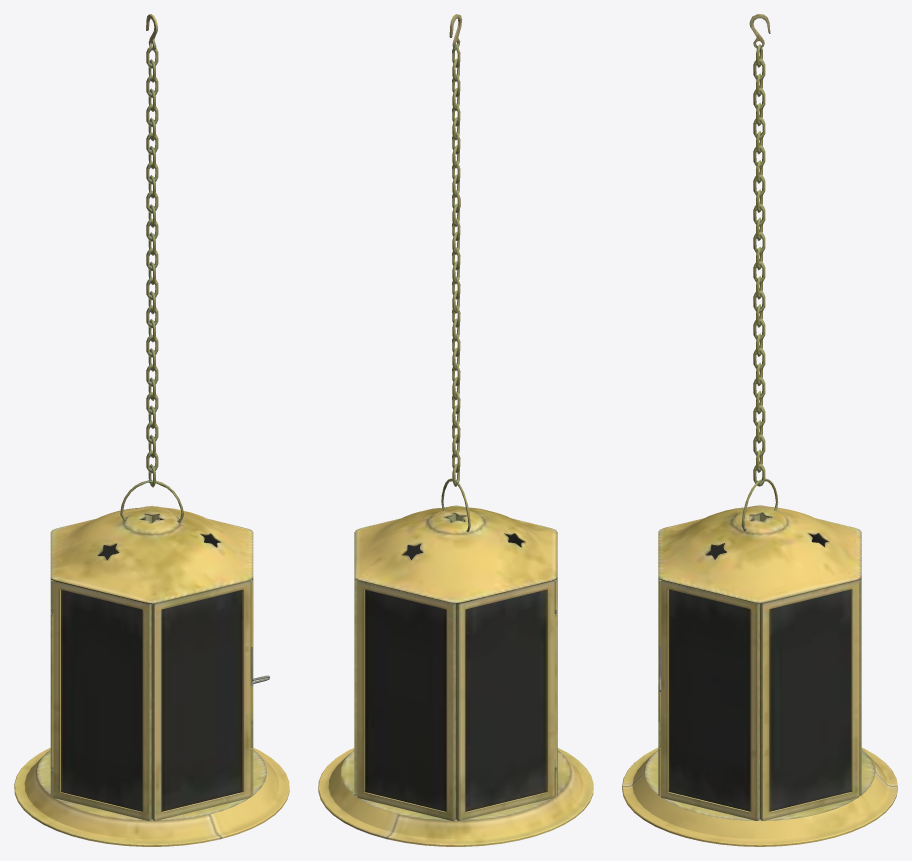
The model's file is lantern.glb.
The picture shows the model from 3 angles, left to right: view 1: azimuth 30°, elevation 25°; view 2: azimuth 150°, elevation 25°; view 3: azimuth 270°, elevation 25°; orthographic projection.
Parts seen in each view (by area): view 1: brass_diya_lantern, brass_diya_lantern_connection; view 2: brass_diya_lantern, brass_diya_lantern_connection; view 3: brass_diya_lantern, brass_diya_lantern_connection.
Boxes of the visible parts, x1,y1,x2,y2 form: brass_diya_lantern: (14,505,289,846); brass_diya_lantern_connection: (120,14,183,522); brass_diya_lantern: (318,505,593,846); brass_diya_lantern_connection: (441,14,470,531); brass_diya_lantern: (622,505,897,846); brass_diya_lantern_connection: (741,14,778,530).
Size of the model in its own units: 0.123 by 0.3807 by 0.123.
3 materials, 3 textured.
